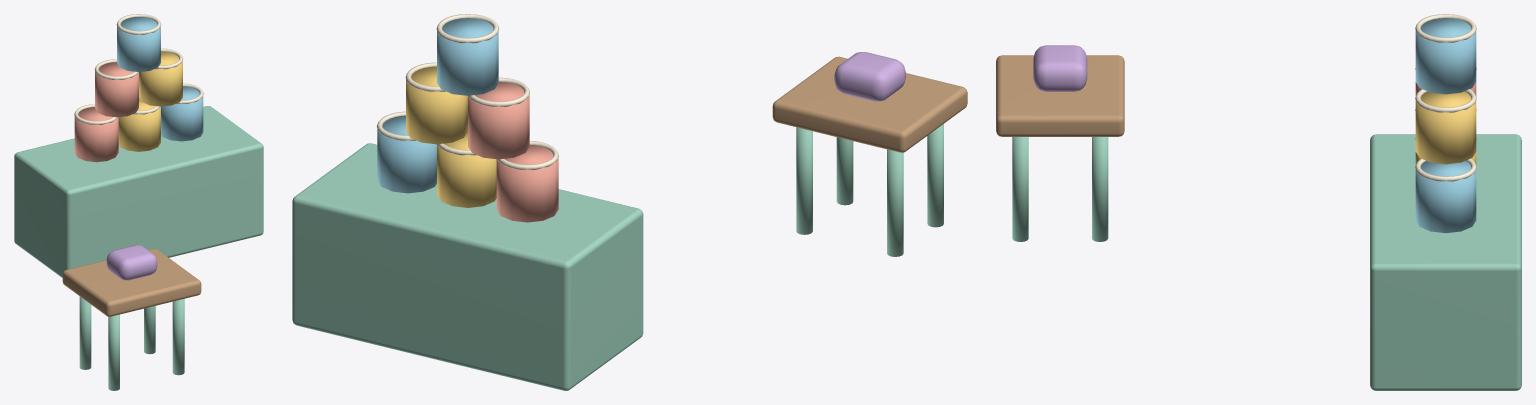
Rendered from play-cans.glb.
The picture shows the model from 3 angles, left to right: view 1: azimuth 30°, elevation 25°; view 2: azimuth 150°, elevation 25°; view 3: azimuth 270°, elevation 25°; orthographic projection. The views are drawn at different scales.
Parts seen in each view (by area): view 1: Scenery surfaces, Can5 surfaces, Can0 surfaces, Can3 surfaces, Can4 surfaces, Can2 surfaces, Can1 surfaces, Soft beanbag; view 2: Scenery surfaces, Can5 surfaces, Can3 surfaces, Can0 surfaces, Can4 surfaces, Can2 surfaces, Can1 surfaces, Soft beanbag; view 3: Scenery surfaces, Can5 surfaces, Can4 surfaces, Can2 surfaces, Soft beanbag.
Boxes of the visible parts, x1=… form: Scenery surfaces: x1=14, y1=106, x2=263, y2=390; Can5 surfaces: x1=116, y1=14, x2=161, y2=71; Can0 surfaces: x1=74, y1=104, x2=118, y2=162; Can3 surfaces: x1=94, y1=59, x2=138, y2=117; Can4 surfaces: x1=139, y1=48, x2=182, y2=106; Can2 surfaces: x1=161, y1=83, x2=203, y2=141; Can1 surfaces: x1=118, y1=98, x2=160, y2=151; Soft beanbag: x1=106, y1=245, x2=157, y2=280; Scenery surfaces: x1=292, y1=56, x2=967, y2=390; Can5 surfaces: x1=436, y1=14, x2=498, y2=95; Can3 surfaces: x1=468, y1=77, x2=529, y2=159; Can0 surfaces: x1=496, y1=141, x2=558, y2=222; Can4 surfaces: x1=405, y1=62, x2=467, y2=144; Can2 surfaces: x1=376, y1=111, x2=436, y2=193; Can1 surfaces: x1=437, y1=131, x2=496, y2=207; Soft beanbag: x1=834, y1=52, x2=905, y2=101; Scenery surfaces: x1=996, y1=55, x2=1521, y2=390; Can5 surfaces: x1=1415, y1=14, x2=1476, y2=94; Can4 surfaces: x1=1415, y1=89, x2=1476, y2=164; Can2 surfaces: x1=1415, y1=158, x2=1476, y2=233; Soft beanbag: x1=1033, y1=45, x2=1087, y2=91.
Bounding box in the file's own units: 2 × 1.42 × 2.25.
